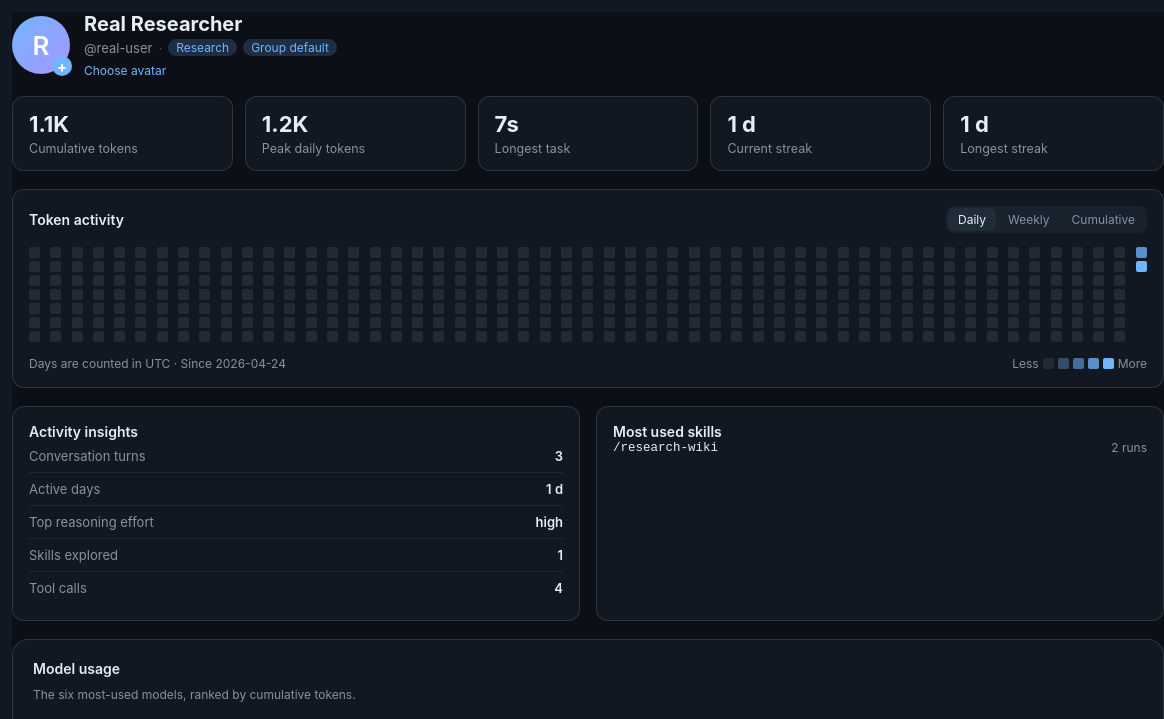
Test case: Settings Profile › switches daily cells to weekly bars and a cumulative line with inspectable values
The width and height of the screenshot is (1164, 719).
Expected: the element with class "sp-profile-legend" is shown, [1012,356,1147,371]
Click the tab "Weekly" at [1029, 220], box [998,208,1060,231]
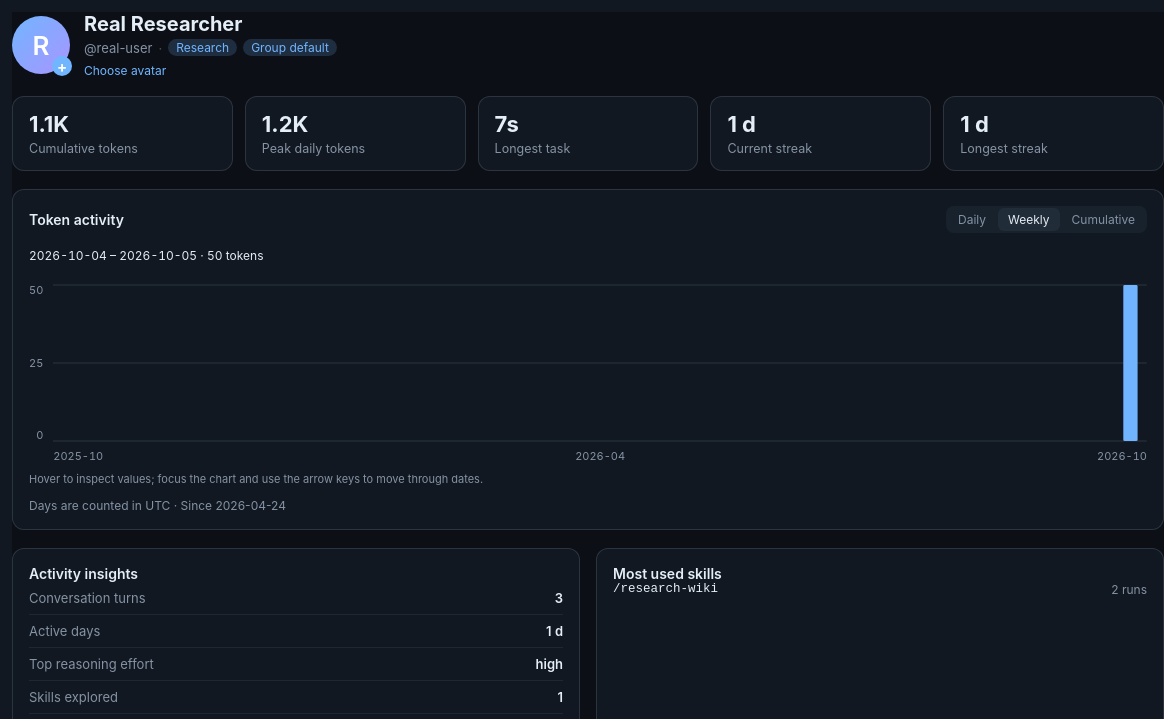
Expected: the picture with class "sp-profile-heatmap" is gone
Expected: the element with class "sp-profile-legend" is gone
Expected: the text with class "sp-profile-chart-detail" reads "2026-10-04 – 2026-10-05 · 50 tokens", [29,248,264,263]
Click the tab "Cumulative" at [1103, 220], box [1062,208,1145,231]
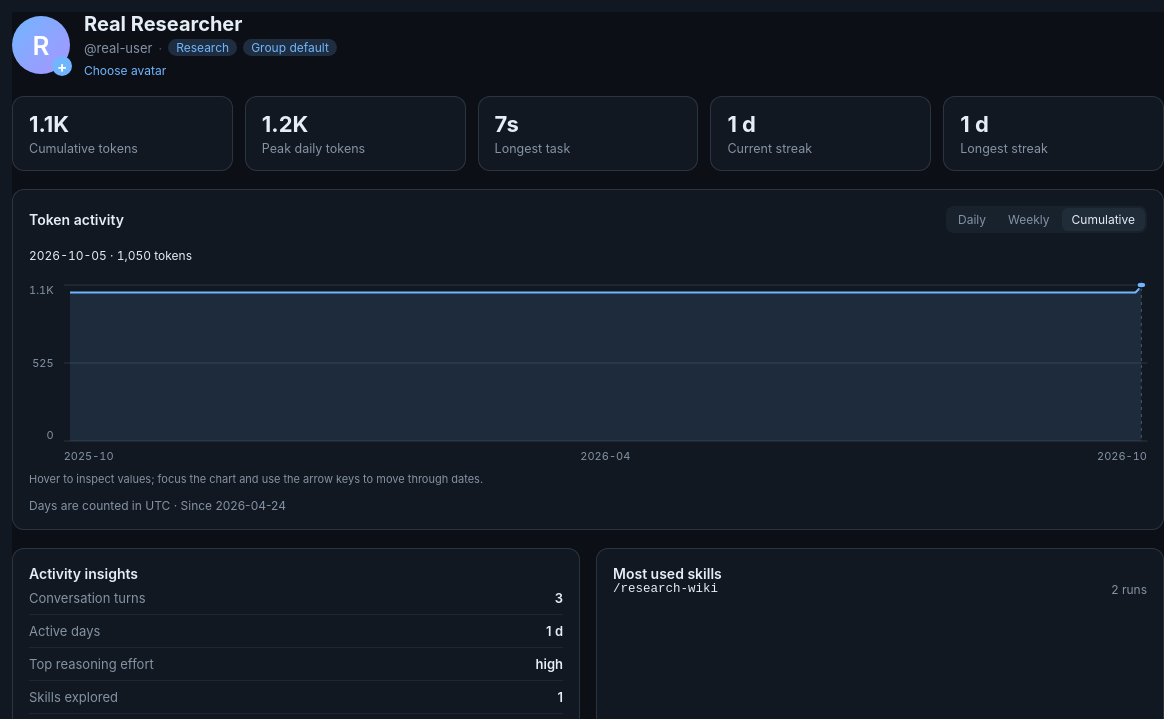
Expected: the element with class "sp-profile-chart-line" is shown, [70,285,1141,292]
Expected: the text "2026-10-05 · 1,050 tokens" is shown, [29,248,192,263]
Press ArrowLeft in the picture named "Token activity · Cumulative", box [64,281,1147,441]
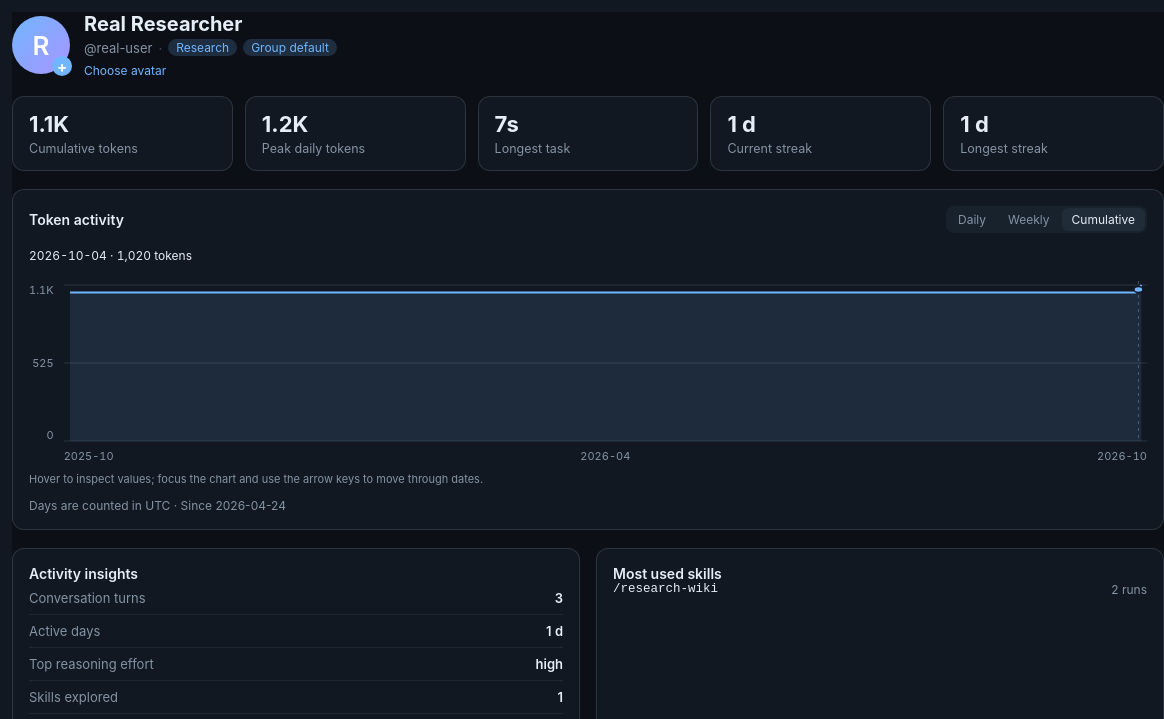
Expected: the text "2026-10-04 · 1,020 tokens" is shown, [29,248,192,263]
Press Home in the picture named "Token activity · Cumulative", box [64,281,1147,441]
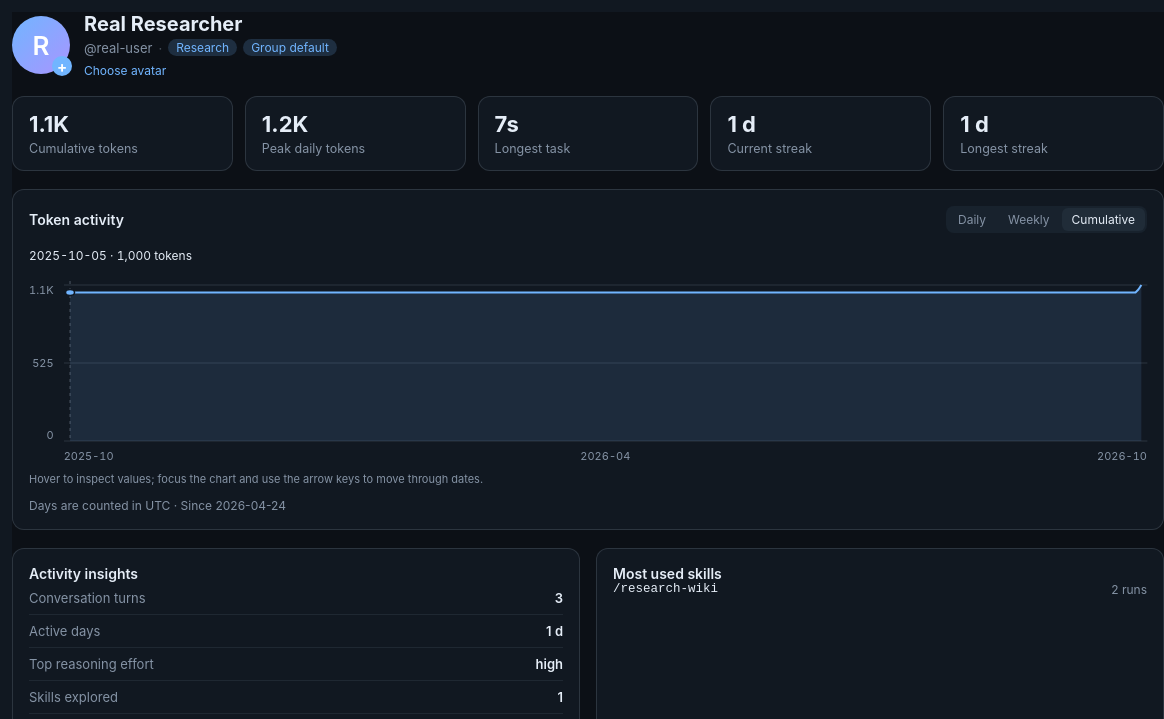
Expected: the text "2026-10-04 · 1,020 tokens" shows "1,000 tokens", [29,248,192,263]
Press End in the picture named "Token activity · Cumulative", box [64,281,1147,441]
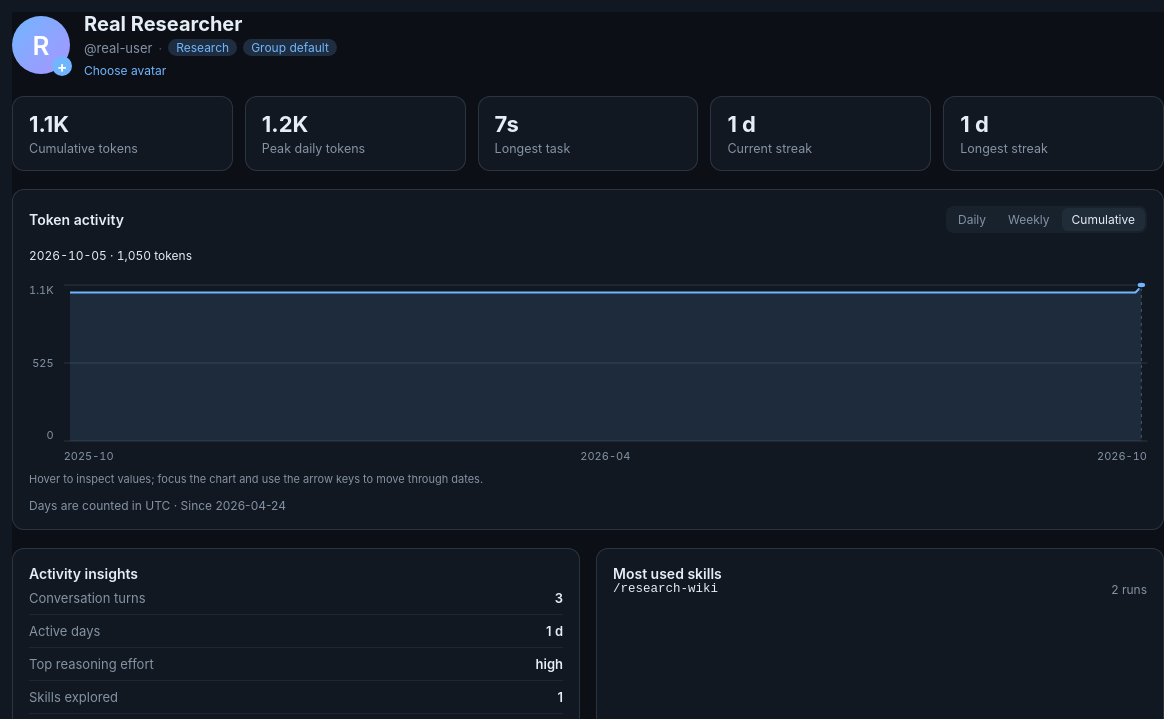
Expected: the text "2026-10-05 · 1,050 tokens" is shown, [29,248,192,263]
Click the tab "Daily" at [972, 220], box [948,208,996,231]
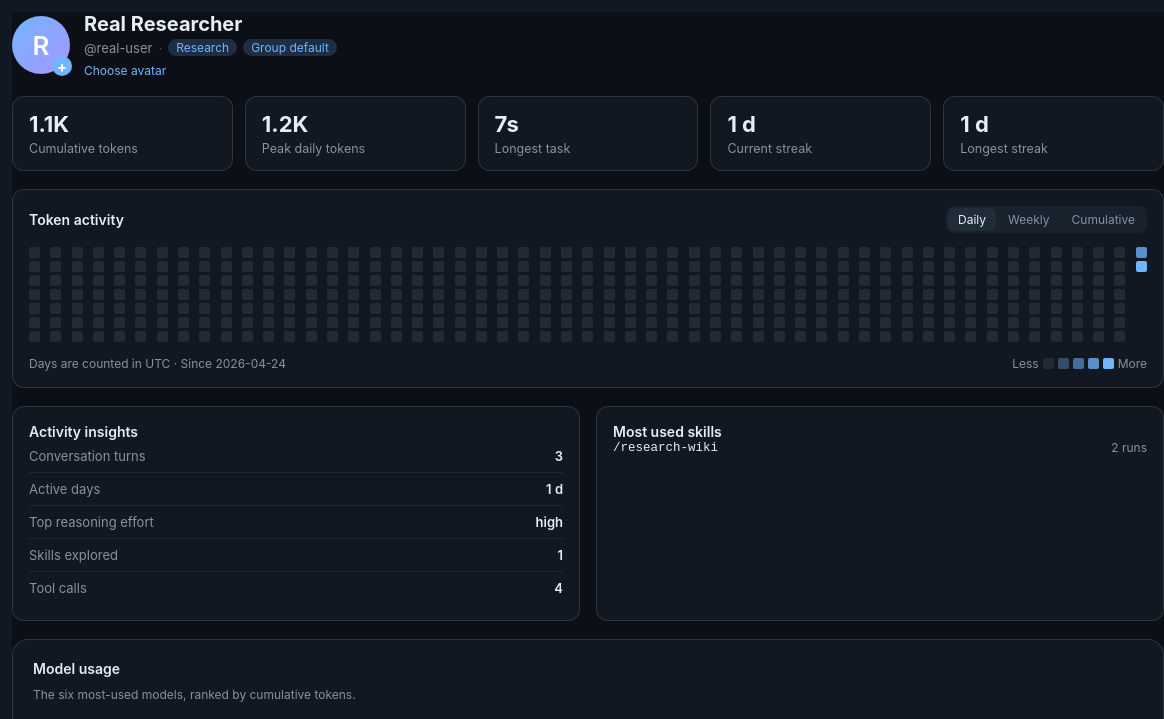
Expected: the element with class "sp-profile-chart" is gone
Expected: the number of elements with class "sp-profile-heatmap-cell" is 371
